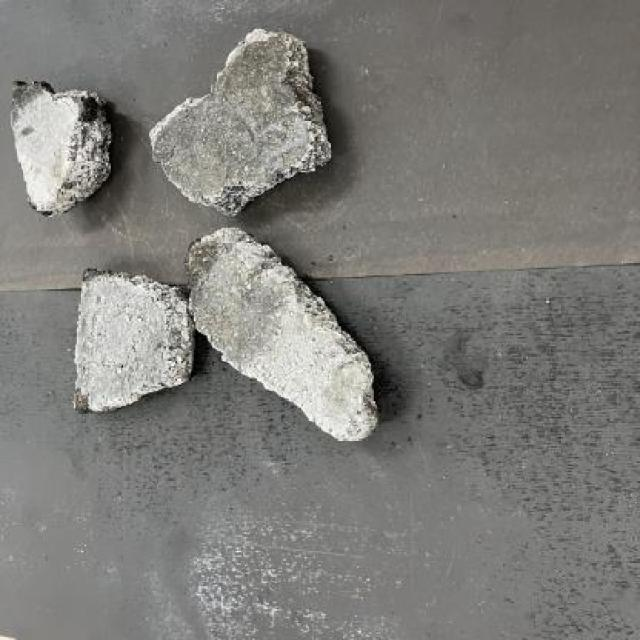Road Debris: (157, 32, 326, 203), (76, 270, 192, 410), (182, 232, 290, 362), (9, 79, 85, 179)
